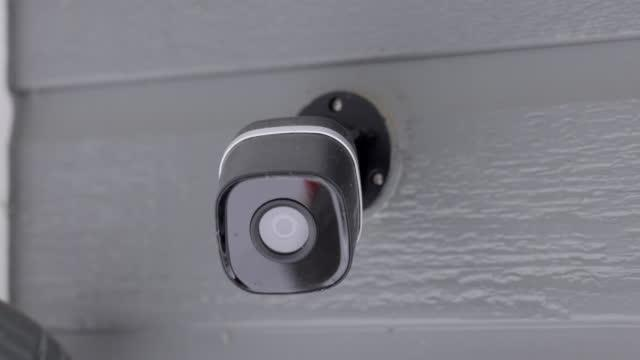Security camera: (213, 88, 402, 295)
